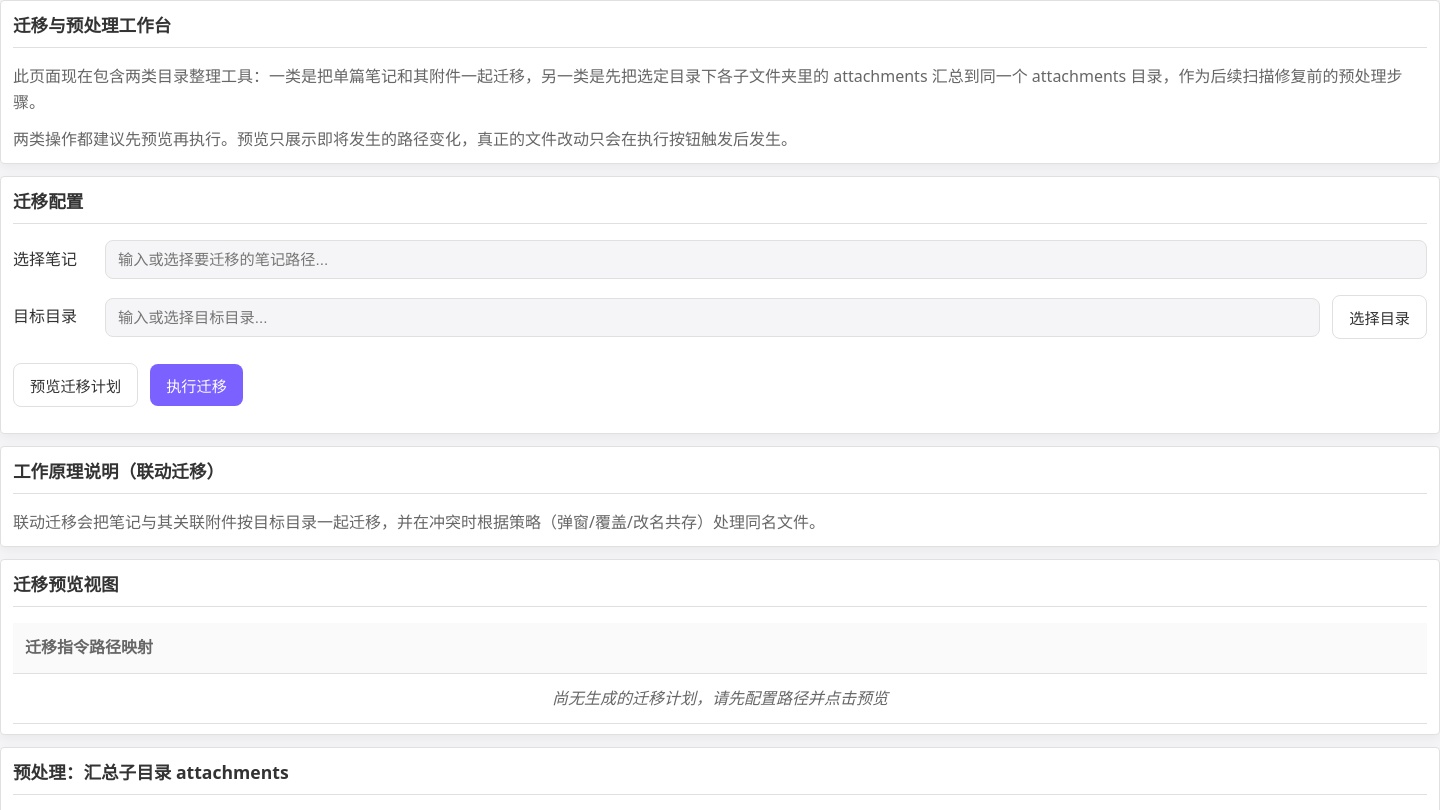
Test: migration preview is invalidated after changing inputs
Type "D:/vault/notes/a.md" into the field labelled "选择笔记" at (766, 260), box 105,240 -> 1427,279
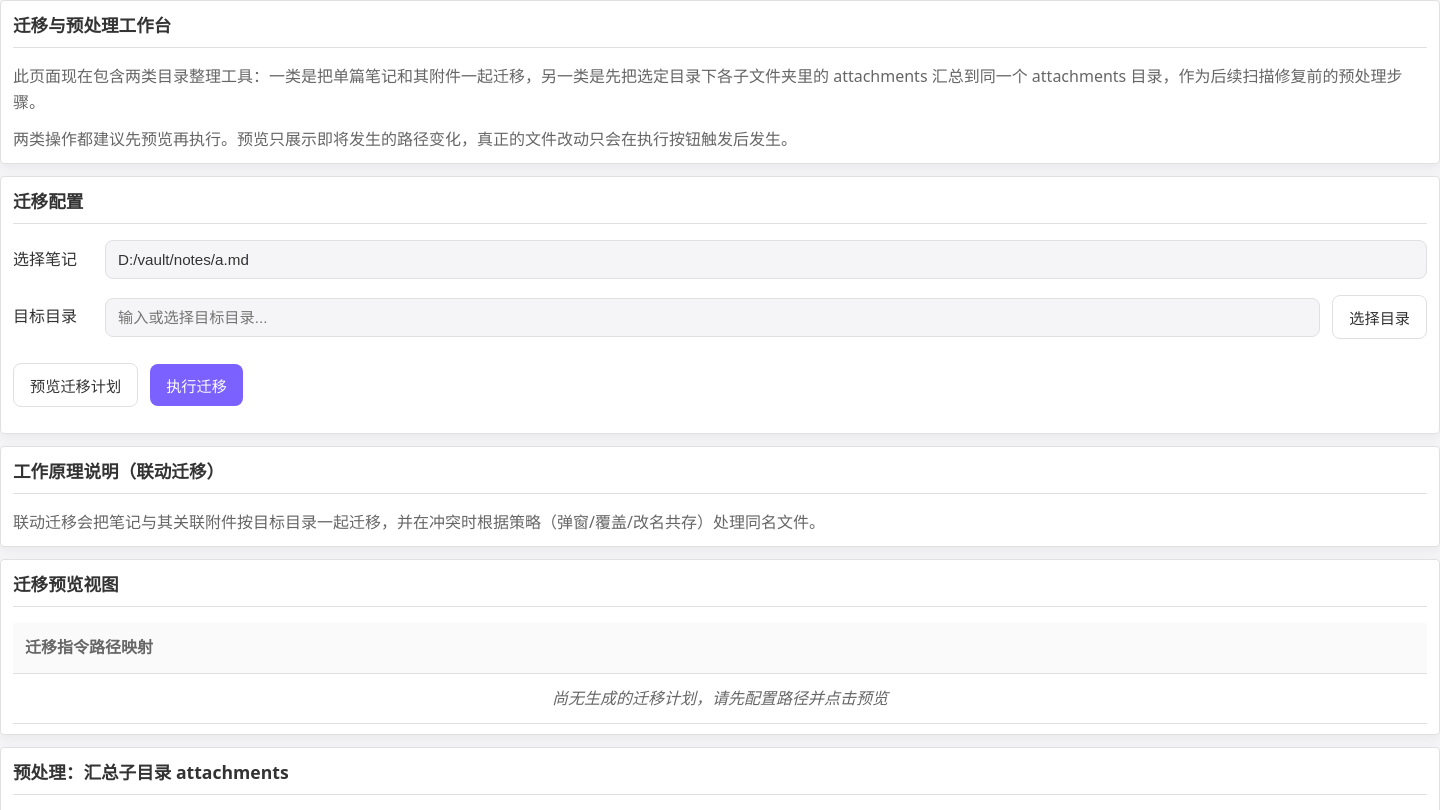
Type "D:/vault/notes" into the field labelled "目标目录" at (713, 317), box 105,298 -> 1320,337
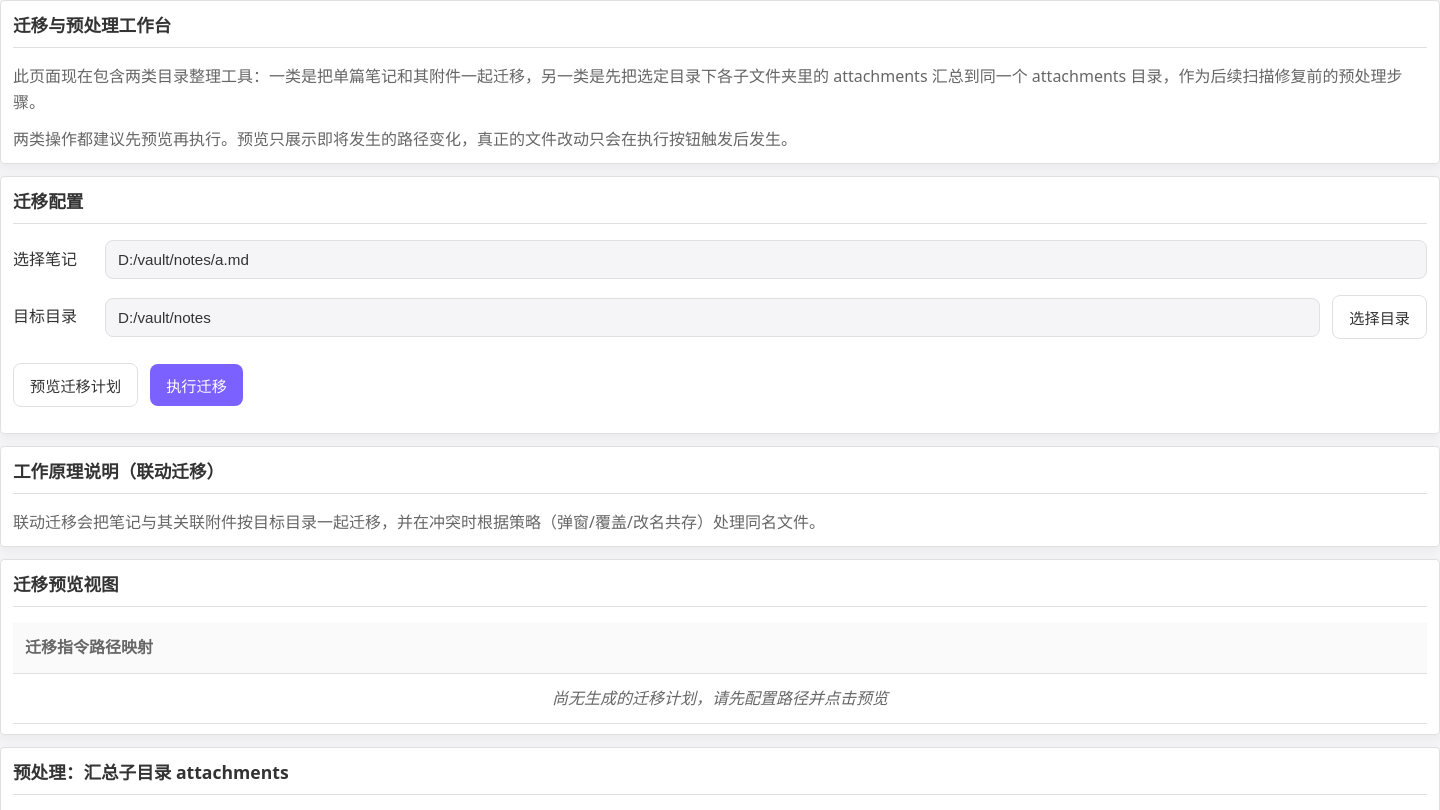
Click the button "预览迁移计划" at (76, 385), box 13,363 -> 138,407
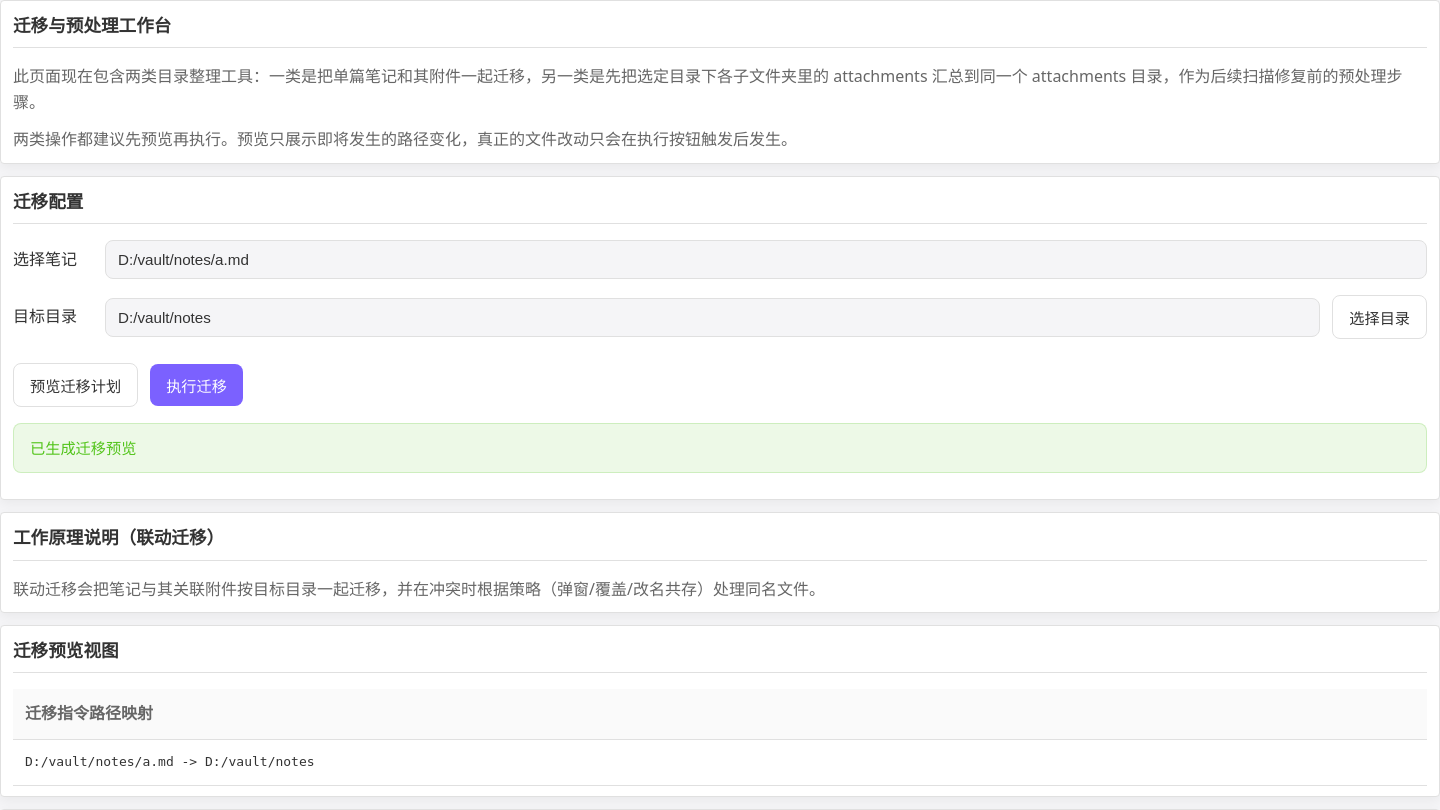
Now the text "D:/vault/notes/a.md -> D:/vault/notes" is shown, box 13,739 -> 1427,785
Replace the text in the field labelled "目标目录" with "D:/vault/archive" at (713, 317), box 105,298 -> 1320,337
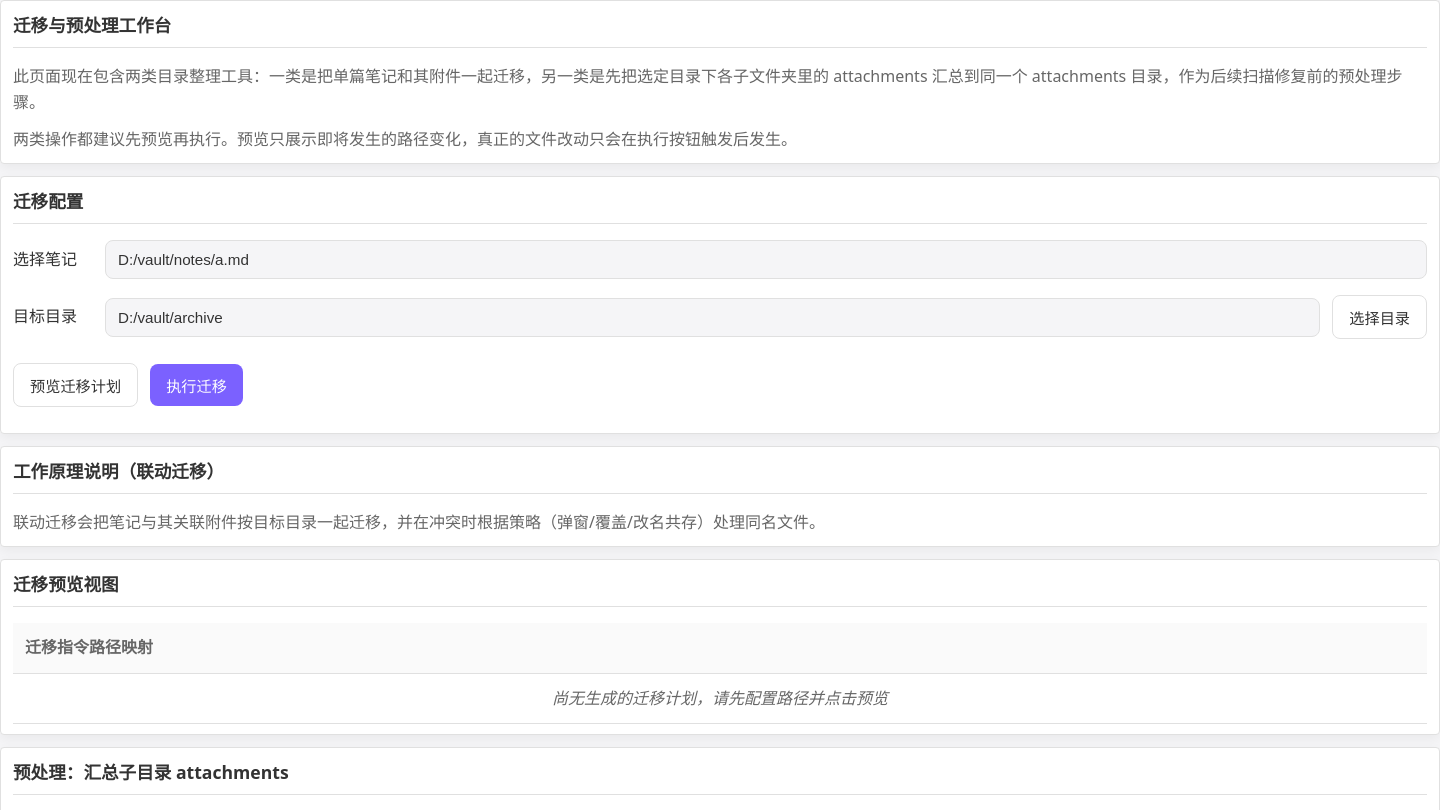
Click the button "执行迁移" at (196, 385), box 150,364 -> 243,406
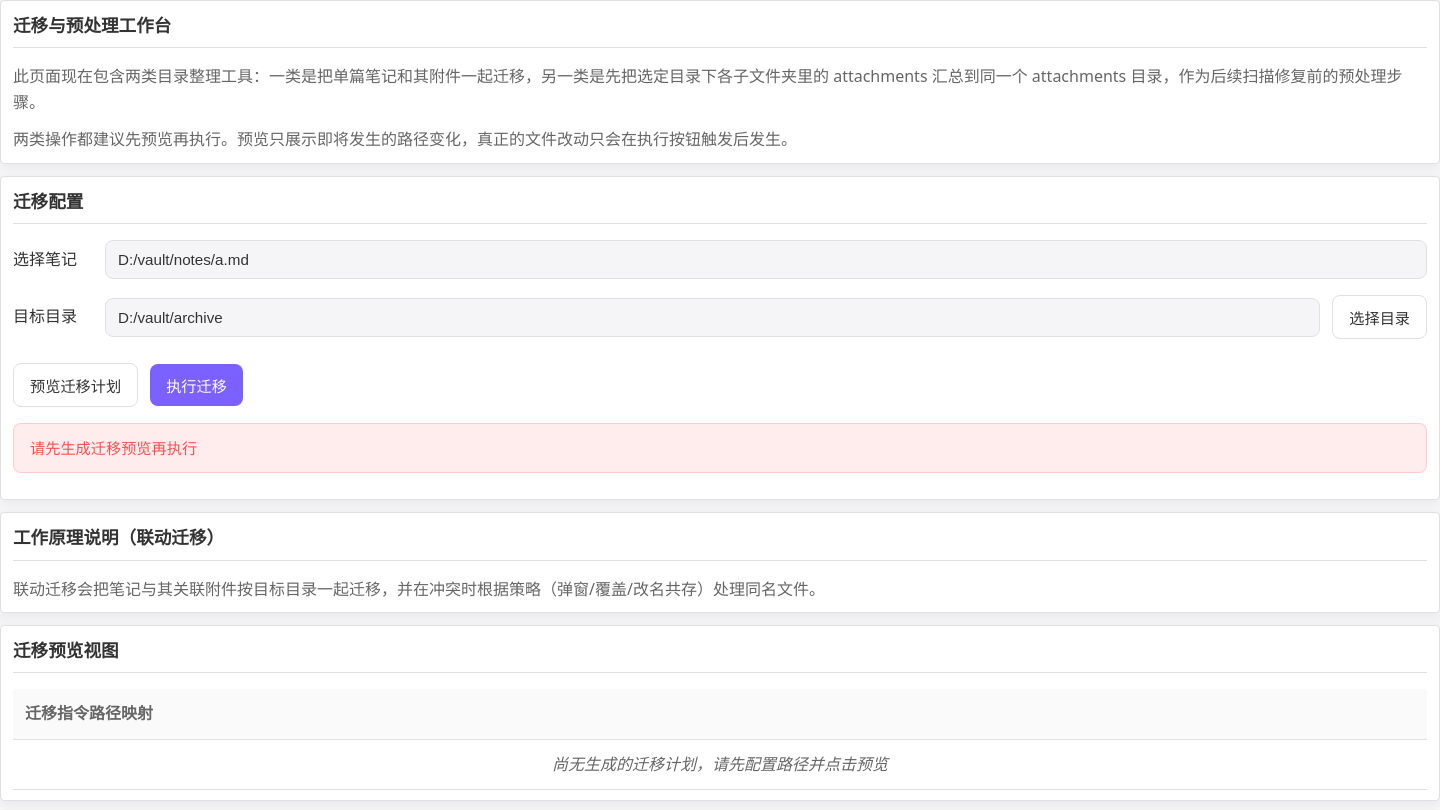
Now the text "请先生成迁移预览再执行" is shown, box 13,423 -> 1427,473
